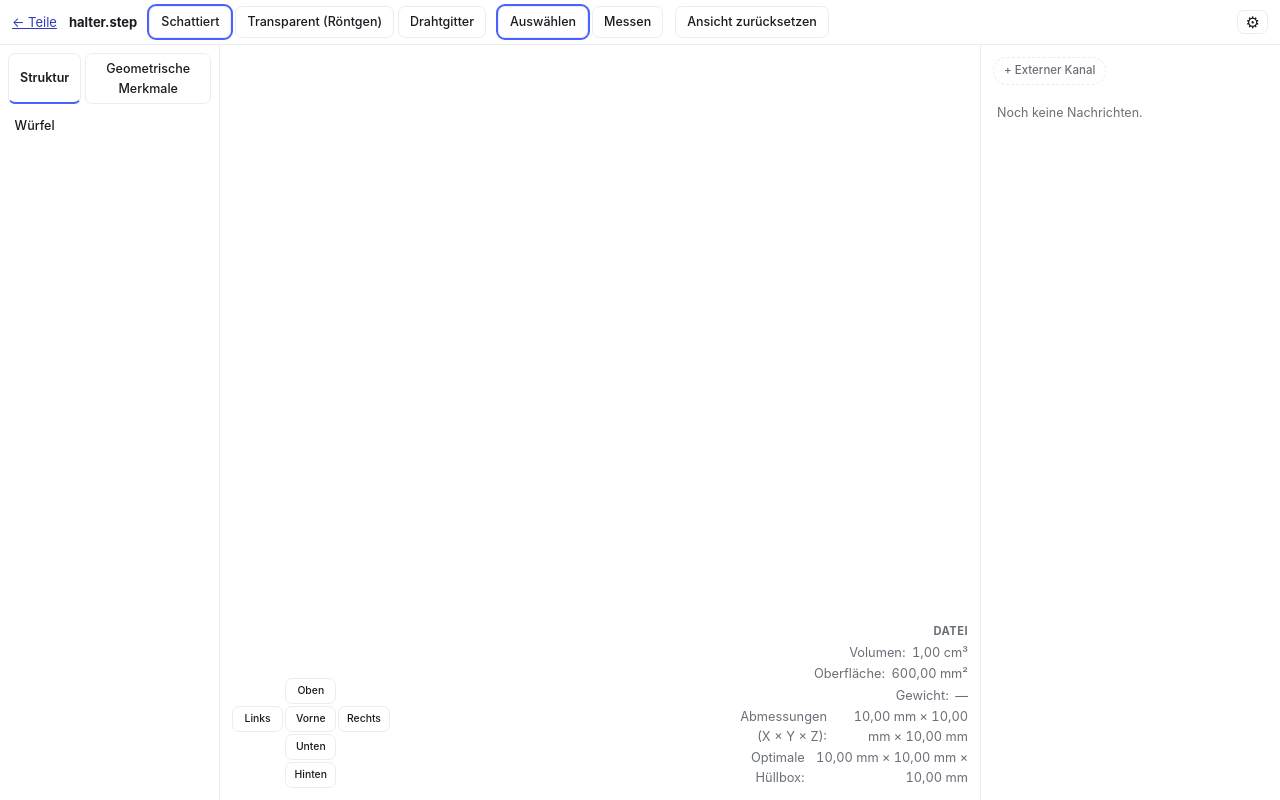
CadViewerPage › measure tool: shows the hint until two faces are picked
Check: the button "Würfel" is shown, box [8, 112, 211, 140]
Step 1. Click the button "Messen" → x=628, y=22, box [592, 6, 663, 38]
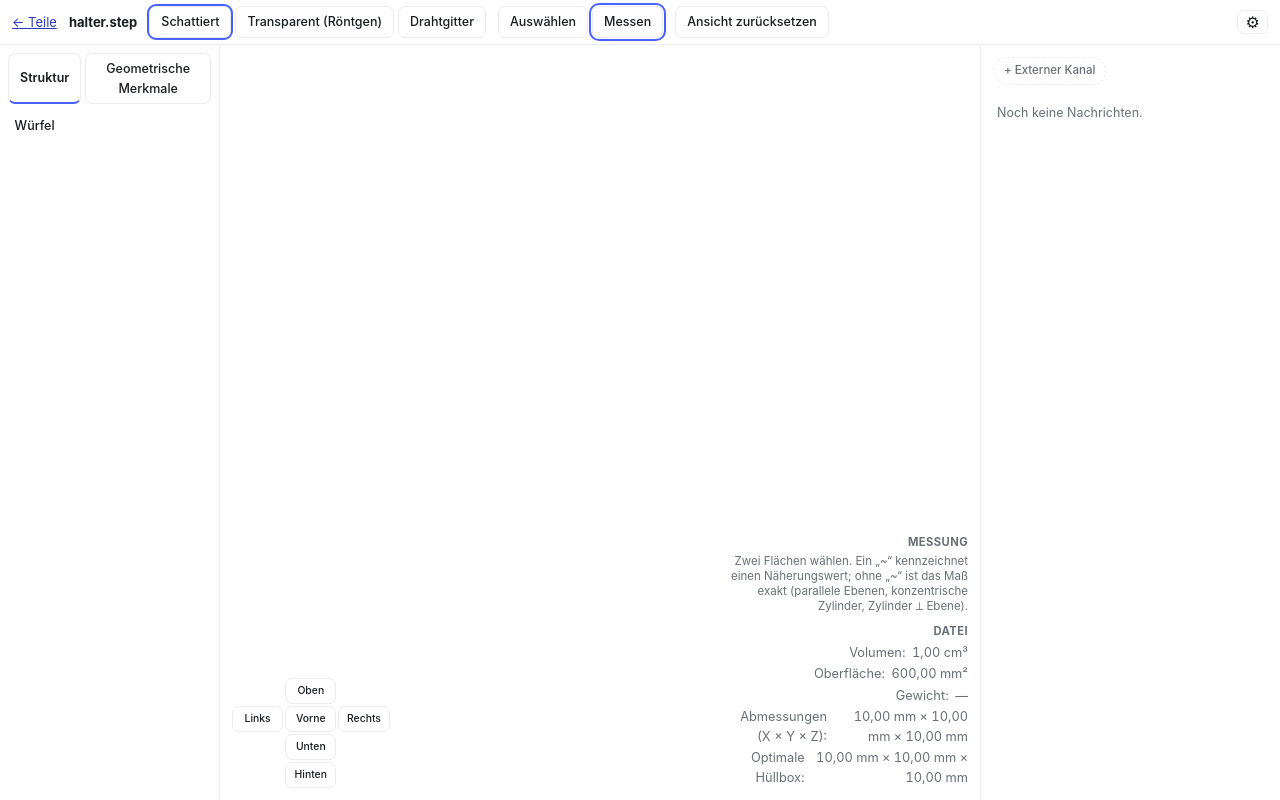
Check: the heading "Messung" is shown, box [908, 535, 968, 549]
Check: the text "Zwei Flächen wählen" is shown, box [731, 554, 968, 612]
